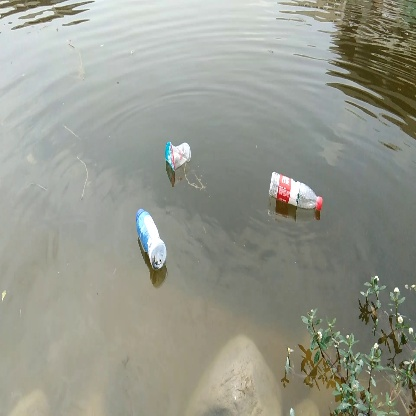bottle: (128, 208, 172, 271), (267, 170, 324, 217), (164, 137, 194, 172)
